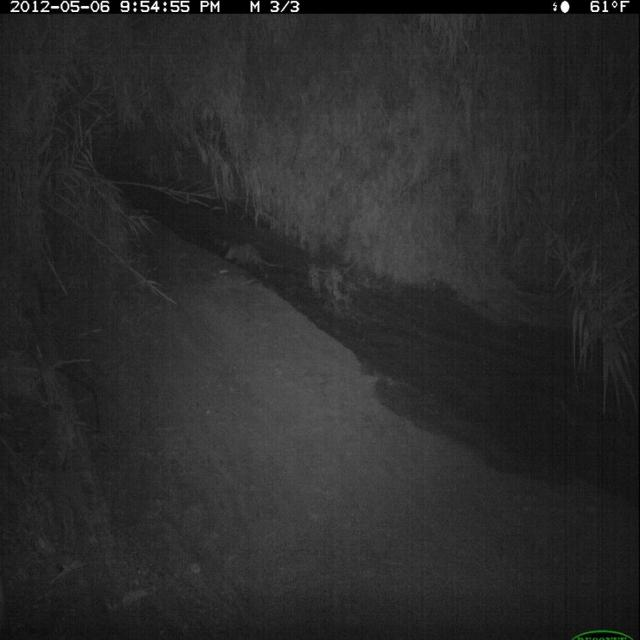opossum: (222, 237, 285, 282)
